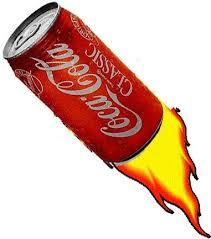Aluminum can: (3, 9, 169, 165)
